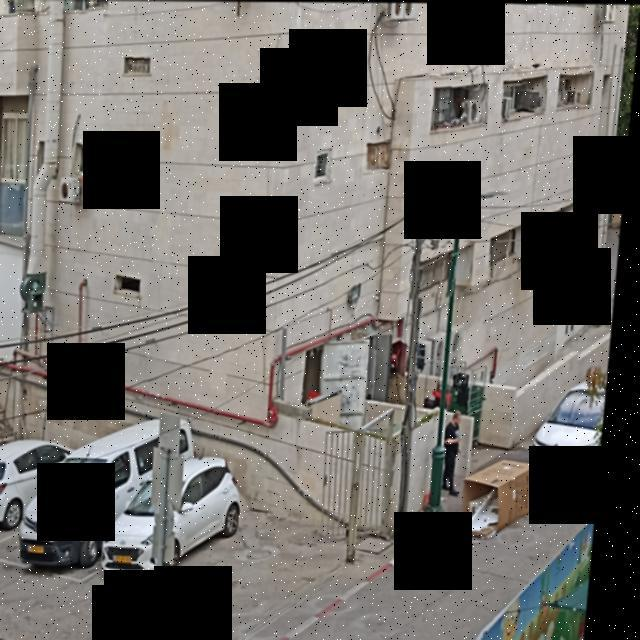Window: (432, 76, 493, 134), (490, 218, 540, 280), (498, 74, 552, 124), (414, 247, 464, 299), (548, 194, 589, 242), (560, 70, 596, 110), (74, 138, 103, 176), (365, 138, 396, 173), (116, 270, 150, 298), (316, 144, 336, 183), (3, 0, 37, 19), (126, 54, 154, 74), (61, 1, 89, 14)
